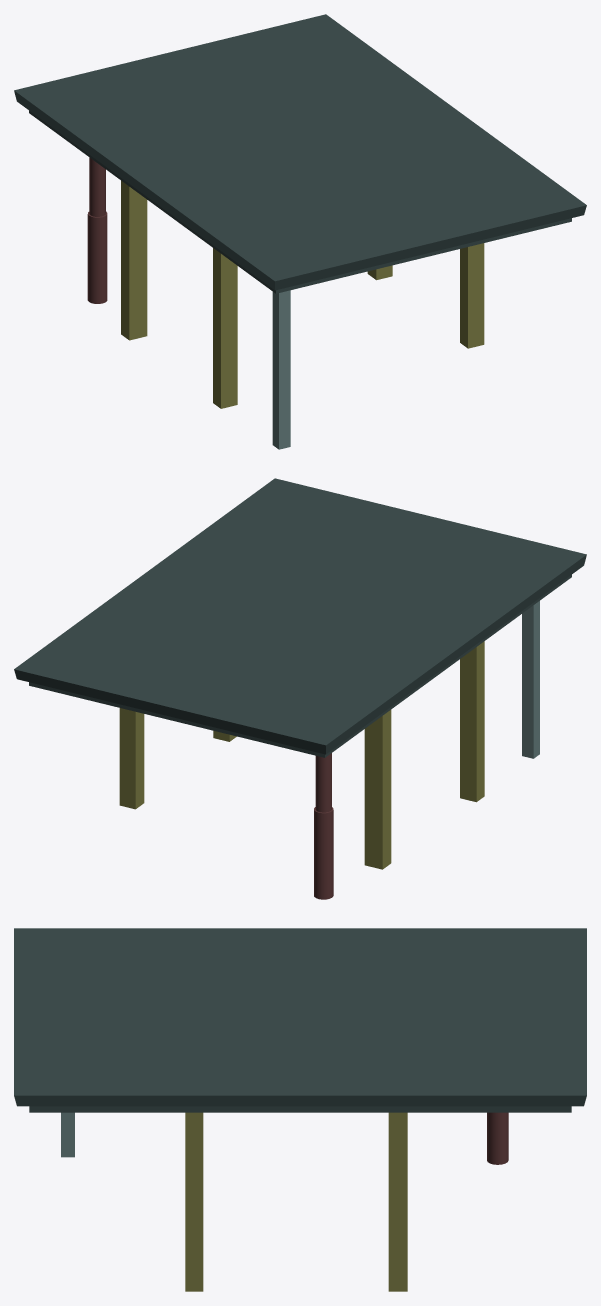
The model's file is gasolinera 2.fbx.
The picture shows the model from 3 angles, top to bottom: view 1: azimuth 30°, elevation 25°; view 2: azimuth 150°, elevation 25°; view 3: azimuth 270°, elevation 25°; orthographic projection. The views are drawn at different scales.
Visible parts, largest first — view 1: cuerpo1, Box003, base; view 2: cuerpo1, Box003, base; view 3: cuerpo1, base, Box003.
Boxes of the visible parts, box(x1,y1,x2,y2) form: cuerpo1: box(14, 14, 586, 408); Box003: box(272, 290, 290, 449); base: box(87, 157, 107, 303); cuerpo1: box(14, 478, 586, 869); Box003: box(522, 601, 539, 758); base: box(314, 753, 333, 899); cuerpo1: box(14, 928, 586, 1291); base: box(487, 1112, 508, 1164); Box003: box(61, 1112, 74, 1157).
Size of the model in its own units: 136 by 79.3 by 197.
